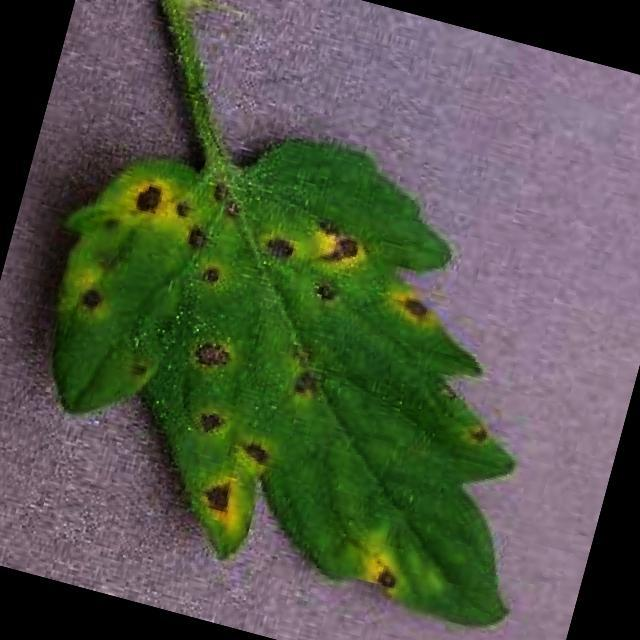Tomato Septoria spot leaf: (0, 82, 615, 636)
